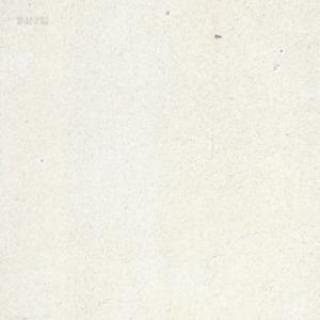Nailtrack_idkeyframe: (214, 31, 221, 37)
